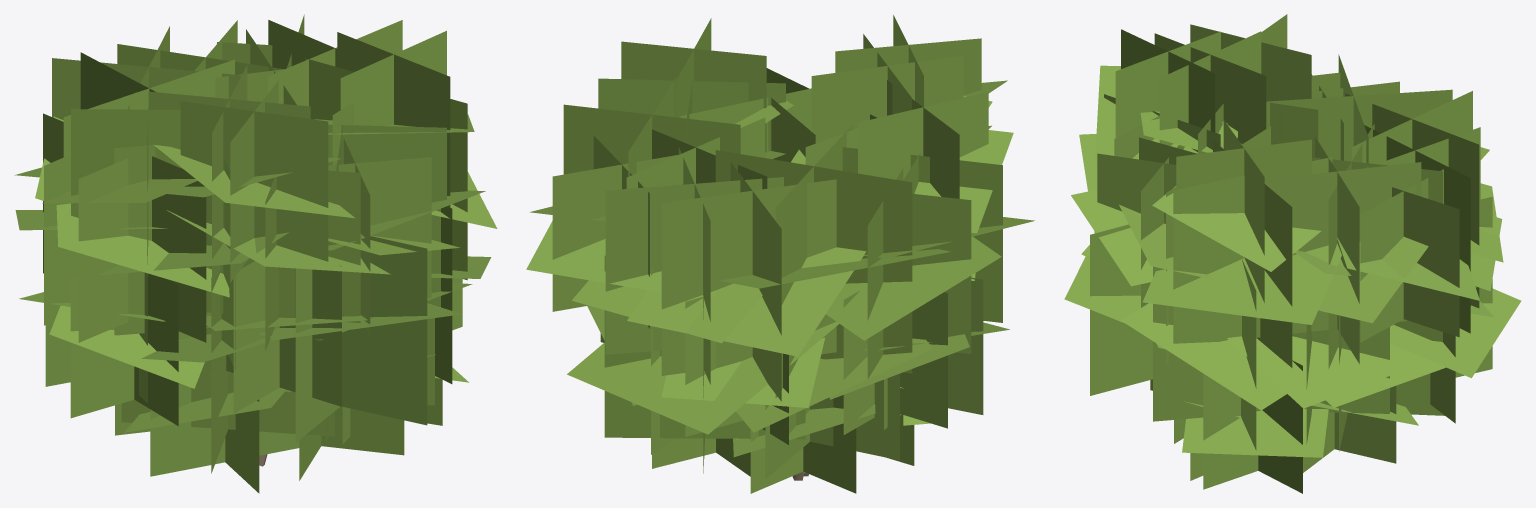
Rendered from noisetier_2_loin.glb.
The picture shows the model from 3 angles, left to right: view 1: azimuth 30°, elevation 25°; view 2: azimuth 150°, elevation 25°; view 3: azimuth 270°, elevation 25°; orthographic projection. The views are drawn at different scales.
Visible parts, largest first — view 1: Noisetier_T2_Leger_Loin; view 2: Noisetier_T2_Leger_Loin; view 3: Noisetier_T2_Leger_Loin.
Part boxes in pixels (<box>): Noisetier_T2_Leger_Loin: <box>14,14,497,493</box>; Noisetier_T2_Leger_Loin: <box>526,15,1034,493</box>; Noisetier_T2_Leger_Loin: <box>1064,14,1521,493</box>.
Size of the model in its own units: 5.54 by 4.82 by 5.3.
